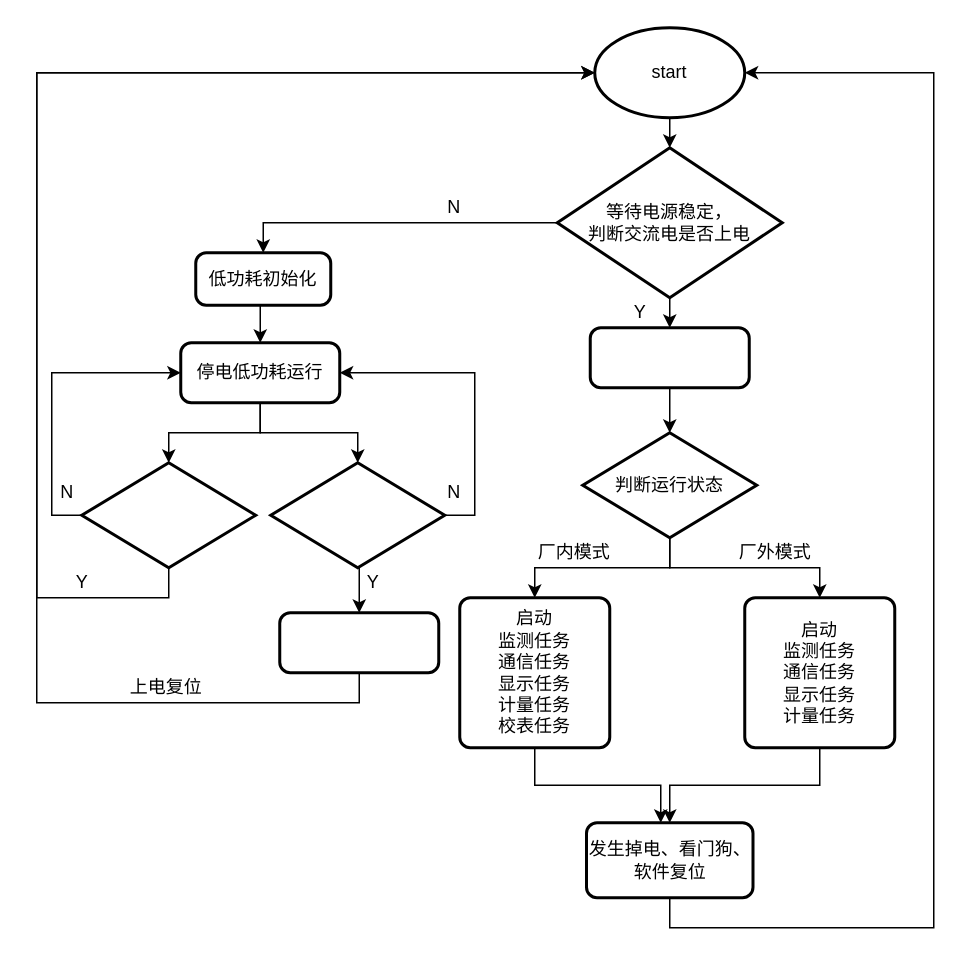
The diagram is 972 pixels wide and 966 high, and some of its shapes have lost their labels. The centre of each missing label's shape, as x and y in pixels:
"停止运行" belongs at (x=359, y=642).
"外部交流电上电" belongs at (x=168, y=514).
"完全掉电" belongs at (x=357, y=514).
"硬件初始化 RTOS初始化" belongs at (x=669, y=357).
